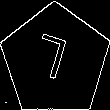L_S: (34, 32, 76, 89)
